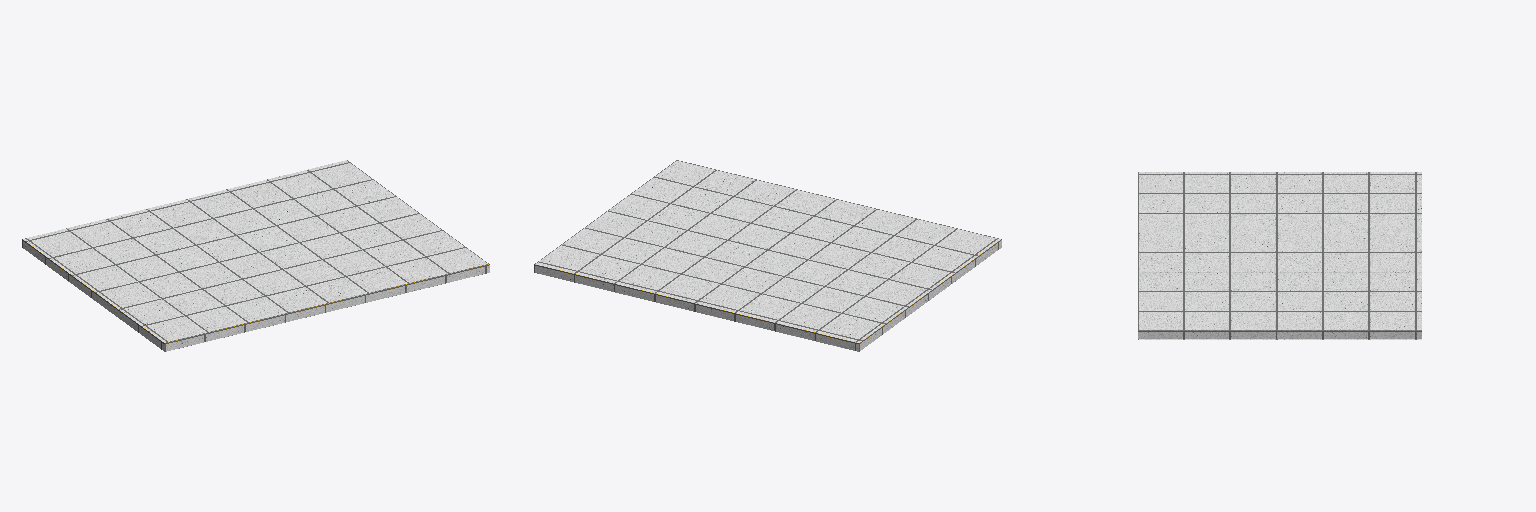
3 renders of one model, left to right at view 1: azimuth 30°, elevation 25°; view 2: azimuth 150°, elevation 25°; view 3: azimuth 270°, elevation 25°, orthographic.
Parts seen in each view (by area): view 1: BackroomsCeiling7, BackroomsCeiling2, BackroomsCeiling4; view 2: BackroomsCeiling7, BackroomsCeiling3, BackroomsCeiling4; view 3: BackroomsCeiling7, BackroomsCeiling5.
Boxes of the visible parts, x1=… form: BackroomsCeiling7: x1=23, y1=160, x2=488, y2=342; BackroomsCeiling2: x1=165, y1=264, x2=489, y2=351; BackroomsCeiling4: x1=22, y1=239, x2=164, y2=351; BackroomsCeiling7: x1=535, y1=160, x2=1000, y2=342; BackroomsCeiling3: x1=534, y1=264, x2=858, y2=351; BackroomsCeiling4: x1=859, y1=239, x2=1001, y2=351; BackroomsCeiling7: x1=1138, y1=172, x2=1421, y2=330; BackroomsCeiling5: x1=1138, y1=331, x2=1421, y2=338.
Size of the model in its own units: 40.47 by 1.04 by 30.75.
Materials: 2 (1 with a texture image).